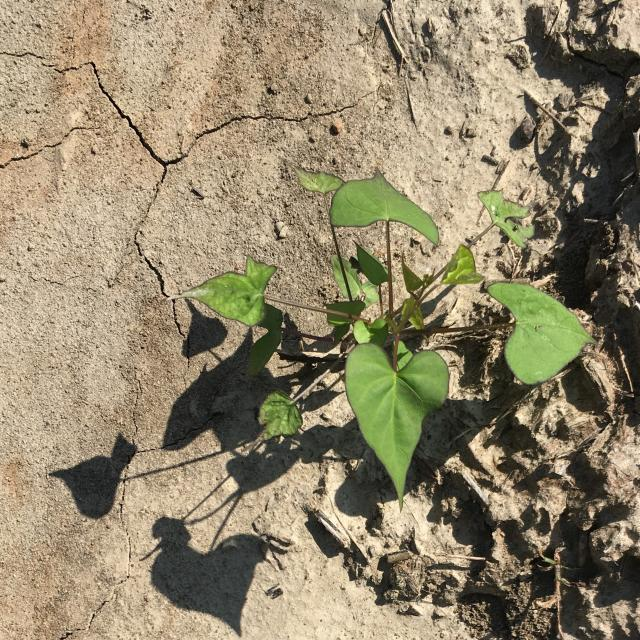MorningGlory: (166, 159, 600, 512)
